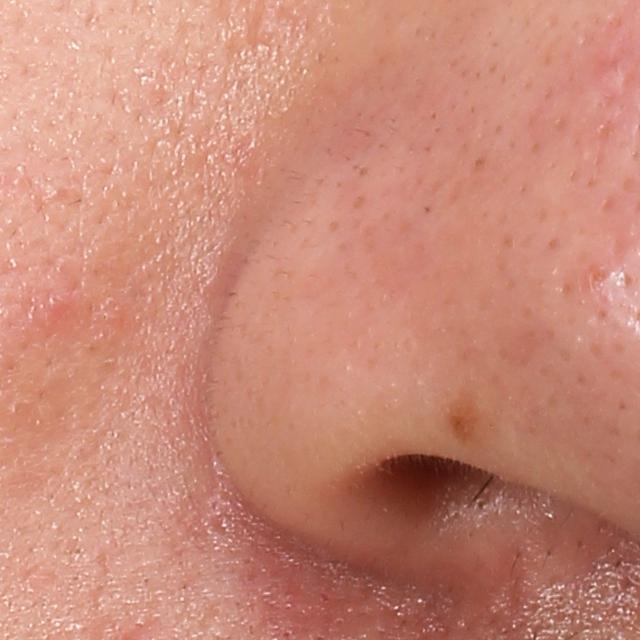nevus: (440, 382, 481, 448)
